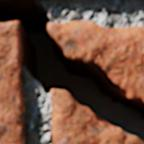brick: (0, 22, 25, 143)
broken_brick: (48, 21, 143, 101), (51, 89, 143, 143)
crack: (0, 0, 143, 142)
